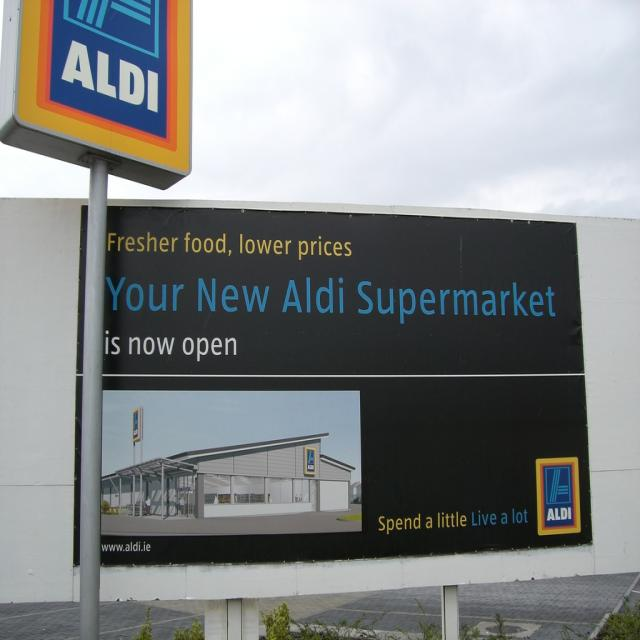aldi: (18, 2, 193, 171), (537, 458, 582, 536), (304, 448, 317, 475), (134, 411, 140, 442)
